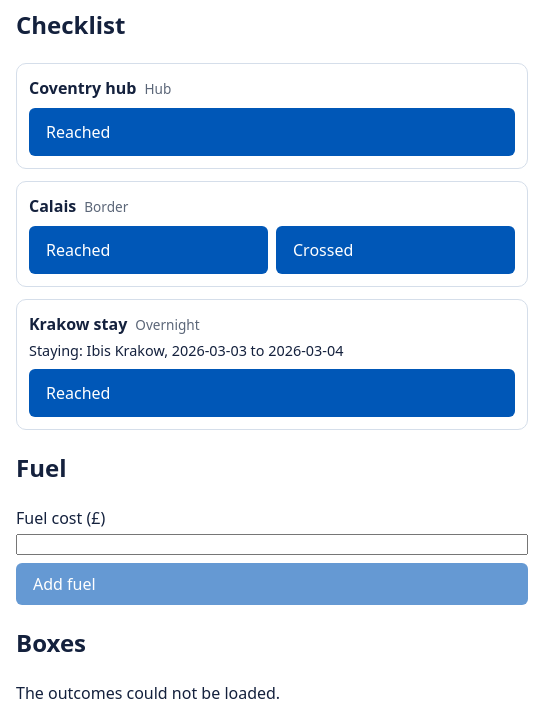
Test: only a border offers Crossed, and crossing it is recorded
Click the button with aria-label "Crossed Calais" at (396, 250), box [276,226,515,274]
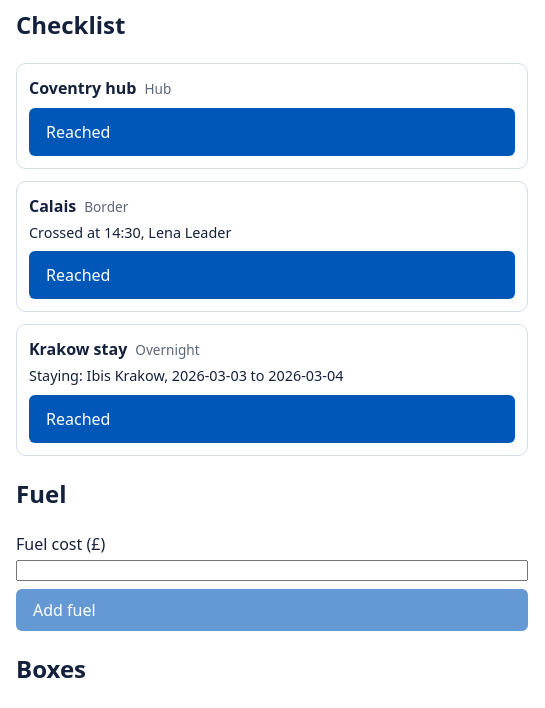
Now the list item "Crossed at 14:30, Lena Leader" is shown, box [29,223,231,242]
